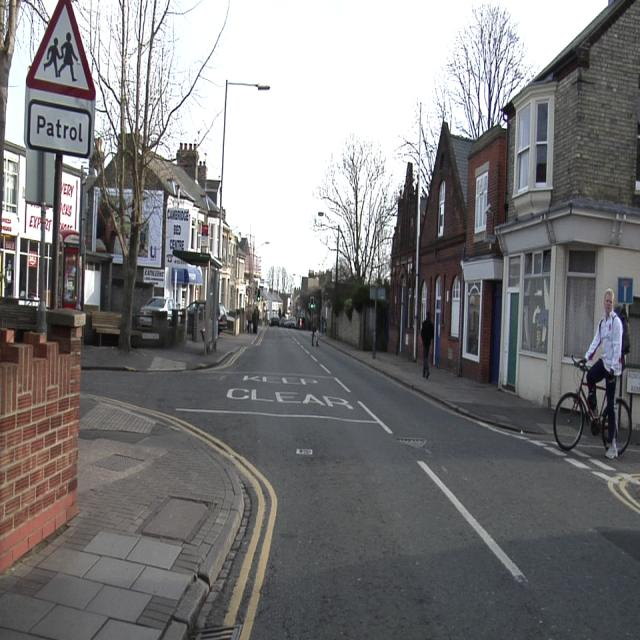Bicyclist: (554, 290, 631, 458)
Building: (495, 0, 640, 406), (419, 123, 506, 383), (135, 143, 219, 311), (60, 163, 122, 310), (0, 140, 41, 302), (388, 163, 418, 358), (45, 208, 52, 299)
Car: (138, 297, 176, 327)
Road: (84, 328, 640, 638)
Tree: (82, 0, 220, 350), (314, 135, 396, 284), (446, 3, 531, 138)
person: (420, 312, 434, 378)
